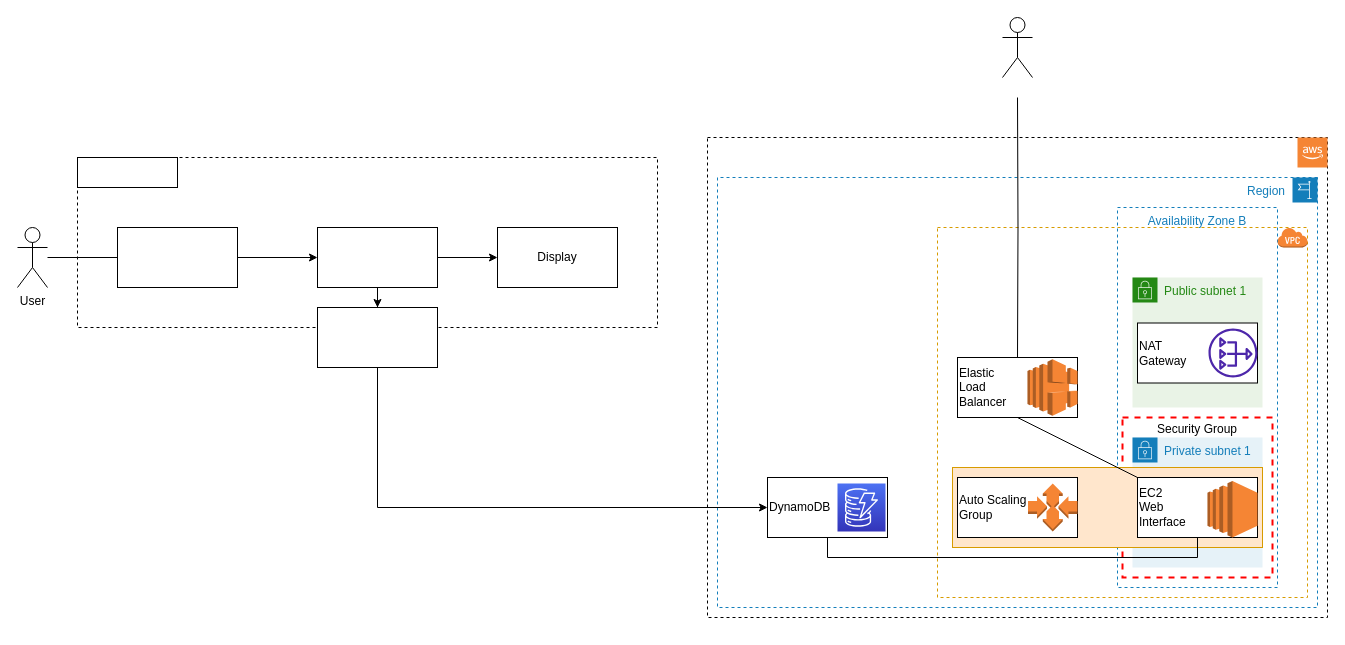
The diagram is 1345 pixels wide and 645 high, and some of its shapes have lost their labels. Each missing label, with the centre of its shape:
Admin: [1017,47]
AWS Script: [377,337]
Phone AirPlay Transmitter: [177,257]
Physical User Space: [127,172]
RPi AirPlay Reciever: [377,257]
